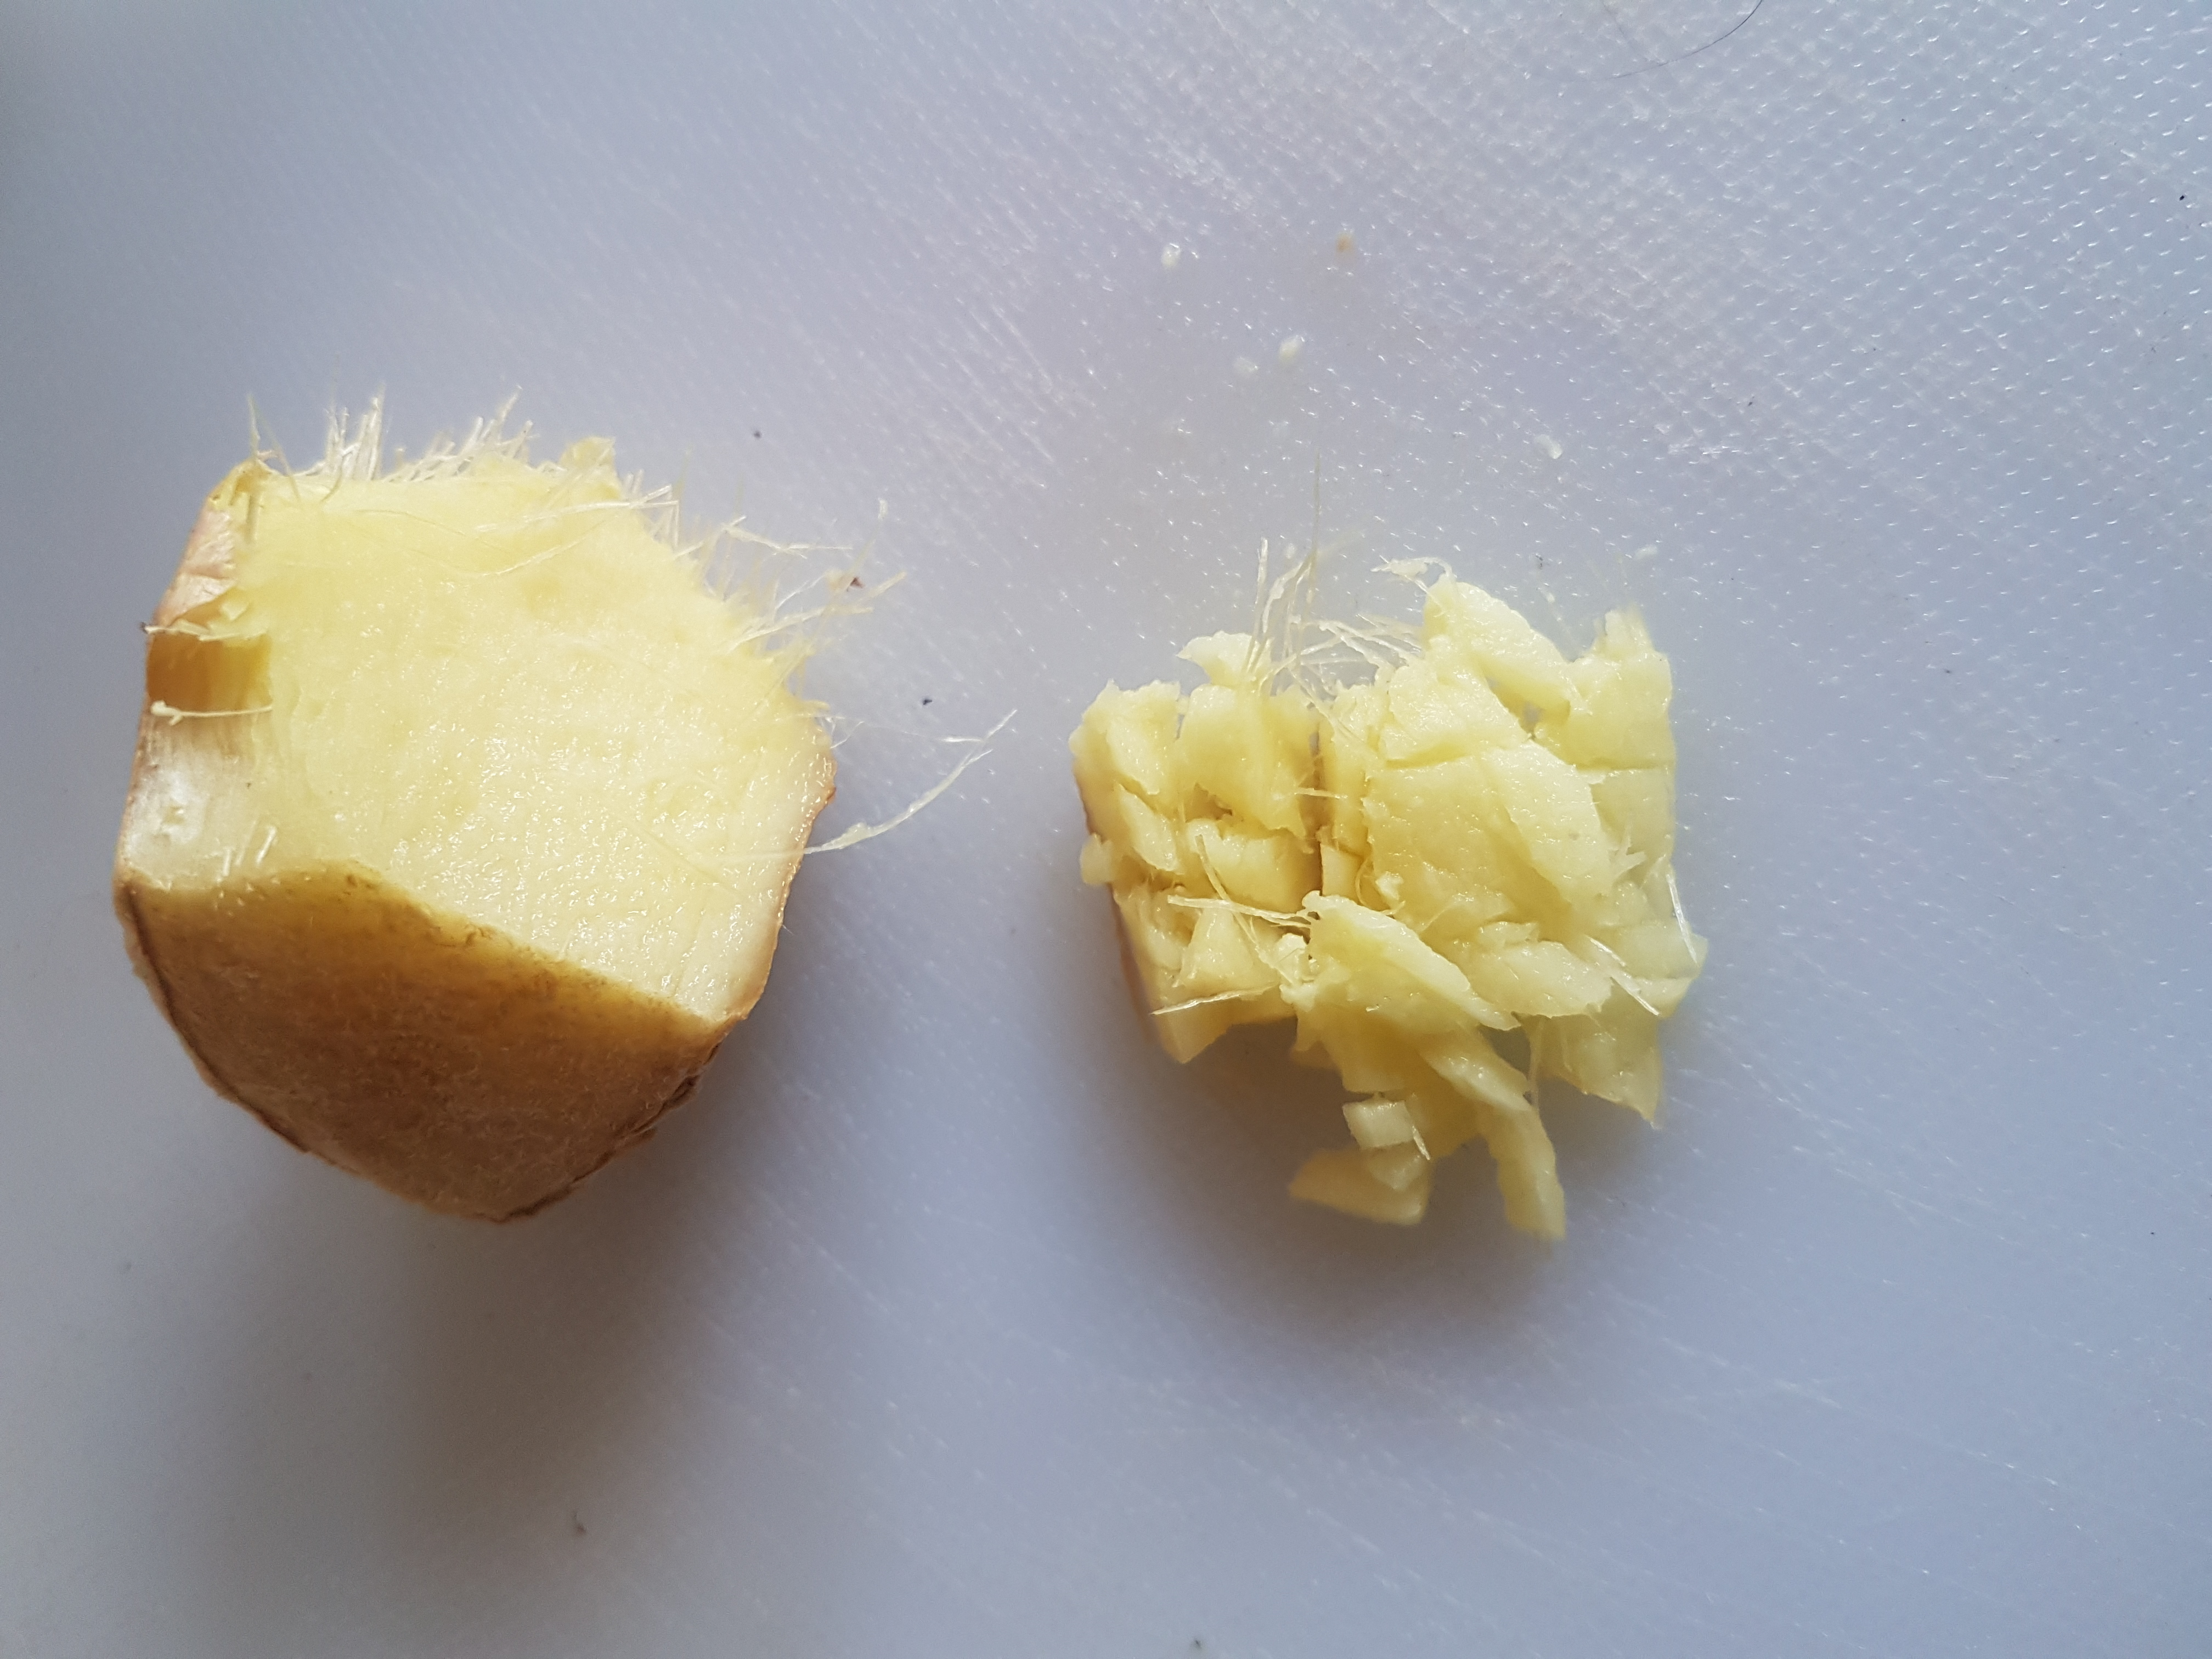Minced ginger: (110, 411, 932, 1255), (1094, 606, 1757, 1248)
